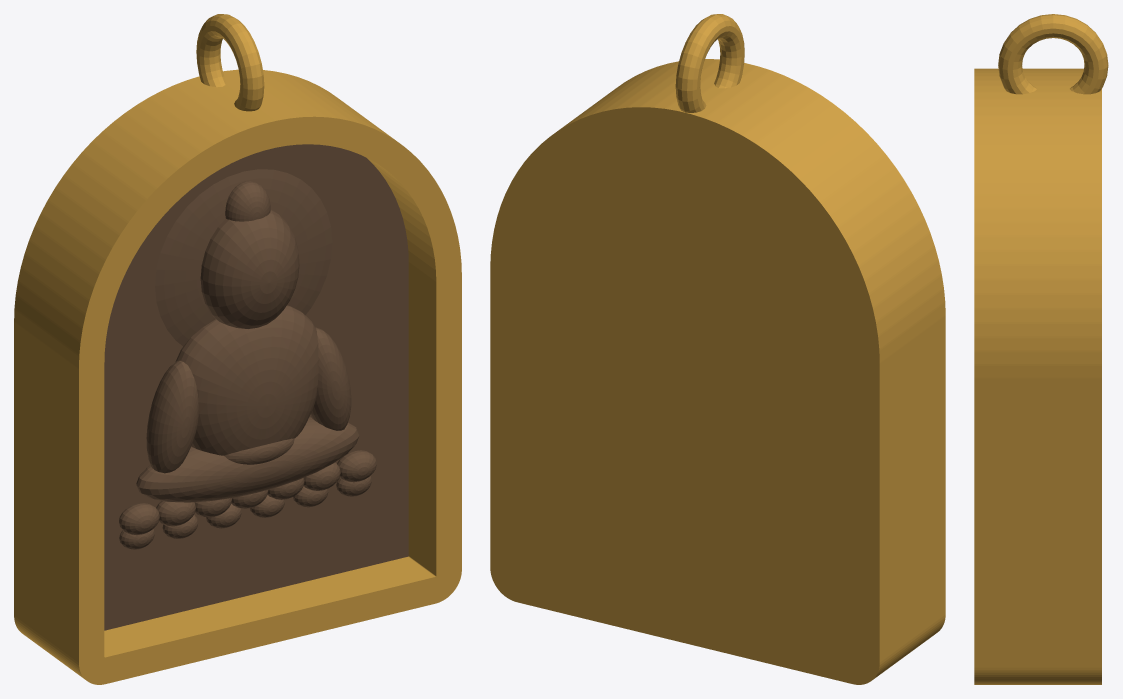
File: amulet.glb
The picture shows the model from 3 angles, left to right: view 1: azimuth 30°, elevation 25°; view 2: azimuth 150°, elevation 25°; view 3: azimuth 270°, elevation 25°; orthographic projection. The views are drawn at different scales.
Visible parts, largest first — view 1: tablet, casing; view 2: casing; view 3: casing.
Boxes of the visible parts, left/top/right/bottom form: tablet: left=104, top=144, right=408, bottom=630; casing: left=14, top=14, right=461, bottom=684; casing: left=490, top=14, right=945, bottom=684; casing: left=974, top=14, right=1108, bottom=684.
Size of the model in its own units: 0.0302 by 0.045 by 0.0093.
